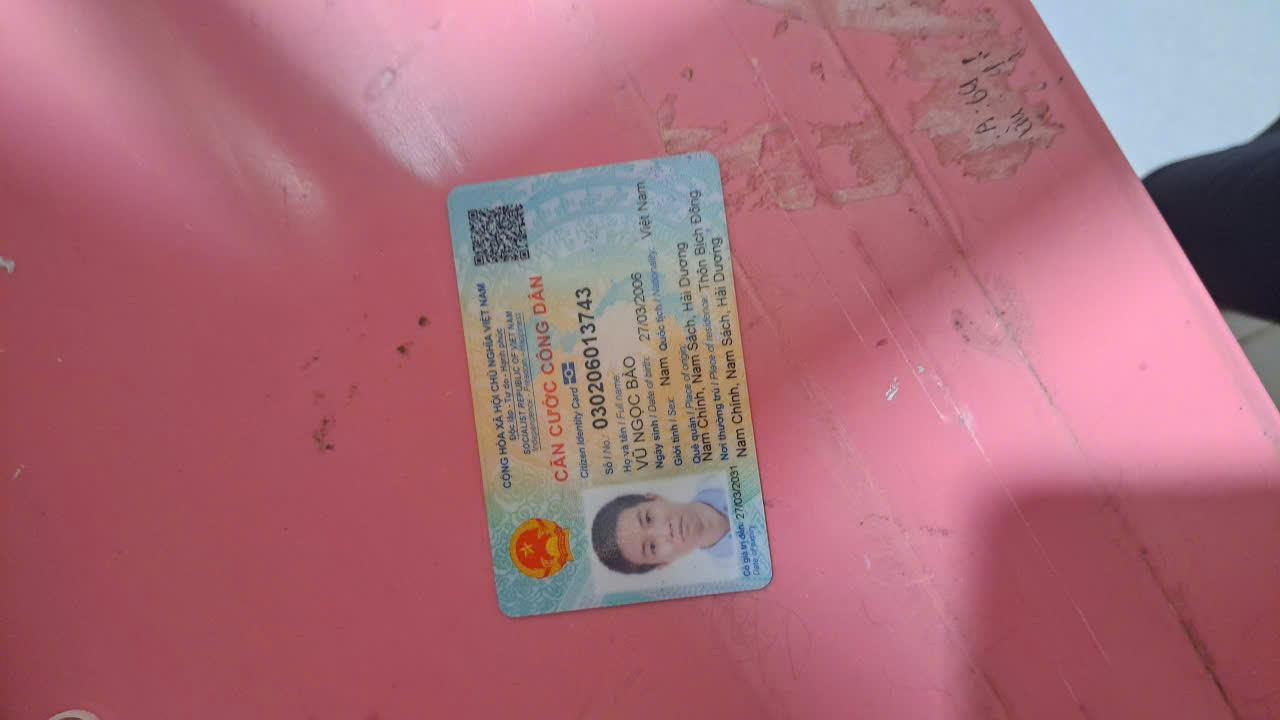cccd: (435, 147, 779, 627)
